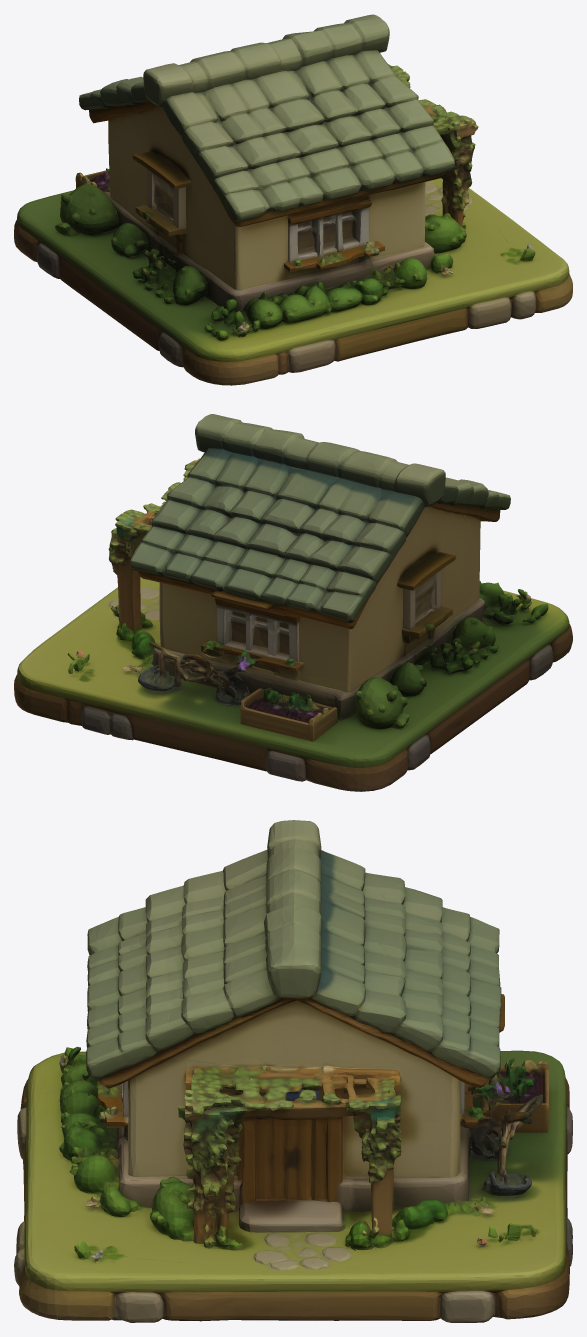
Rendered from casa_relleno_4.glb.
3 views of the same model, one above another, from view 1: azimuth 30°, elevation 25°; view 2: azimuth 150°, elevation 25°; view 3: azimuth 270°, elevation 25° (orthographic). The views are drawn at different scales.
Parts seen in each view (by area): view 1: world; view 2: world; view 3: world.
Part boxes in pixels (left/top/right/bottom): world: left=14, top=14, right=572, bottom=385; world: left=14, top=414, right=572, bottom=791; world: left=14, top=820, right=572, bottom=1322.
Bounding box in the file's own units: 0.9996 × 0.598 × 0.9967.
Materials: 1 (1 with a texture image).
